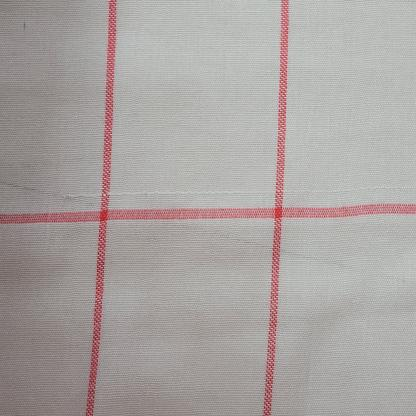spot: (18, 15, 34, 52)
